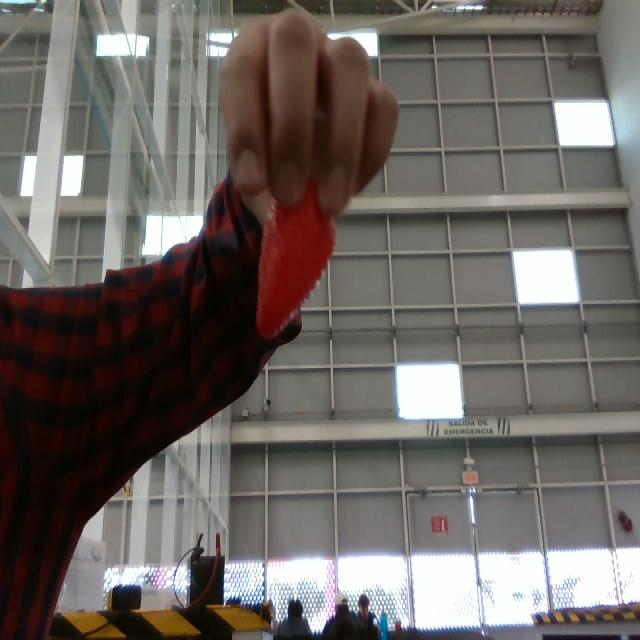grande_roja: (256, 183, 334, 337)
